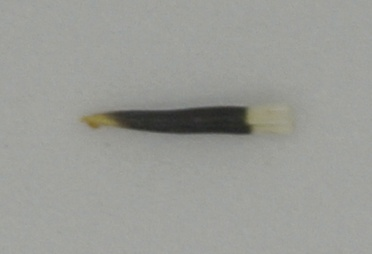เมล็ดดีติดกัน: (76, 103, 299, 136)
